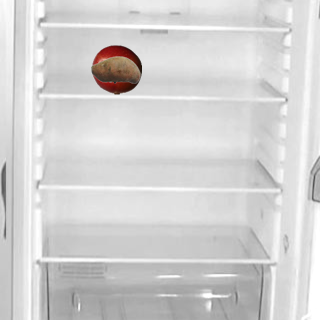Apple Braeburn: (91, 44, 141, 94)
Potato Sweet: (90, 44, 140, 94)
